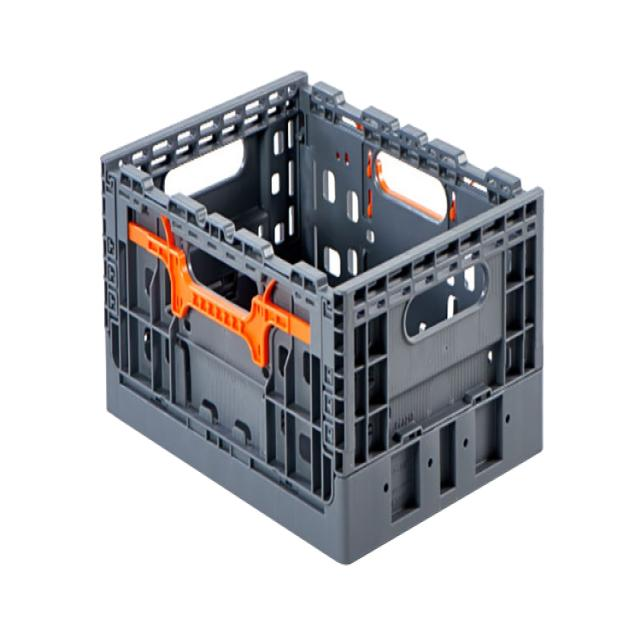basket: (98, 70, 545, 564)
